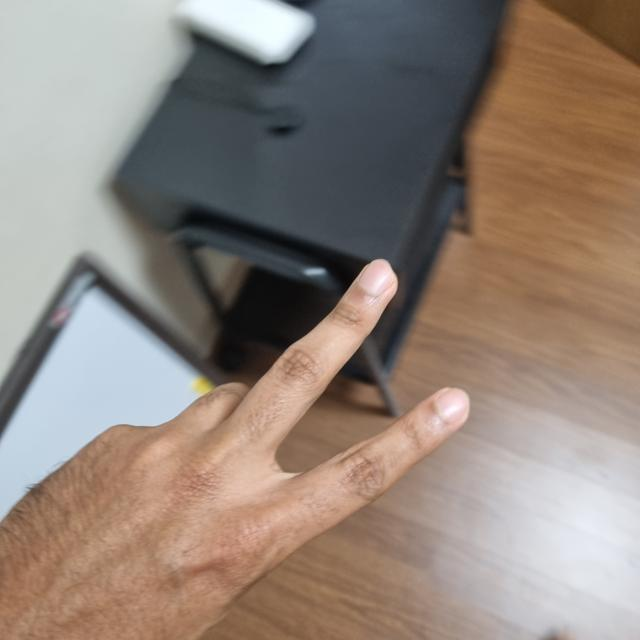Scissors: (0, 266, 479, 638)
